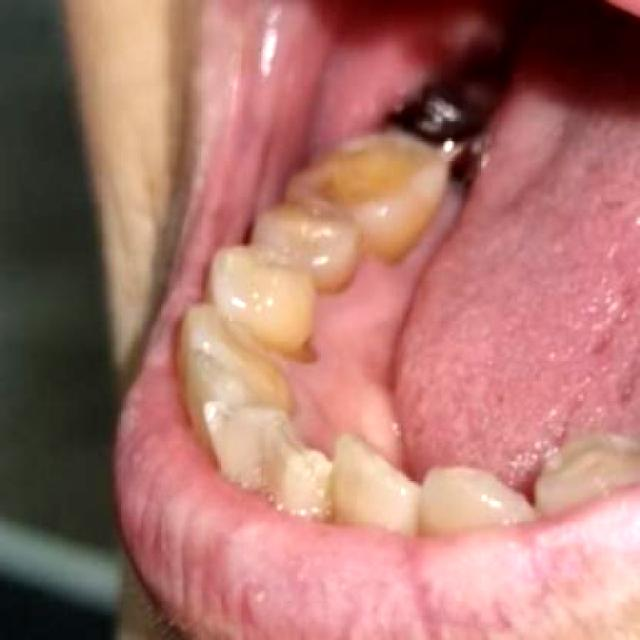Plaque: (277, 252, 386, 389)
